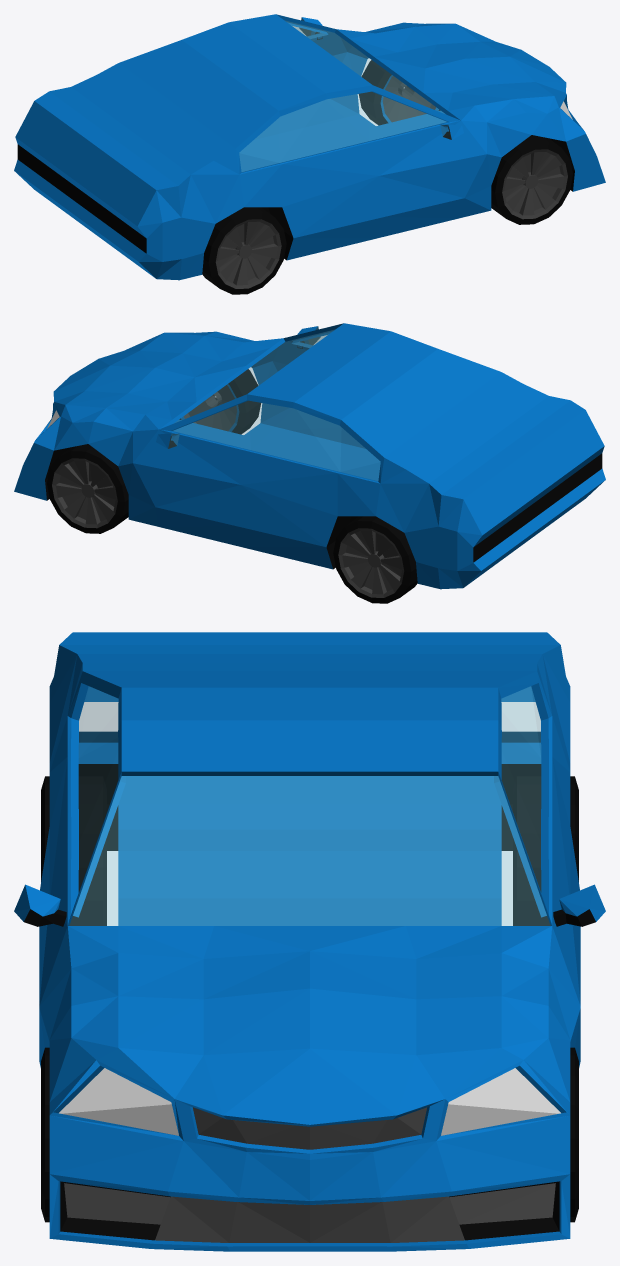
File: CianCar.obj
3 views of the same model, one above another, from view 1: azimuth 30°, elevation 25°; view 2: azimuth 150°, elevation 25°; view 3: azimuth 270°, elevation 25° (orthographic). The views are drawn at different scales.
Parts seen in each view (by area): view 1: CianCar_Material.061, CianCar_Material.065, CianCar_Material.063, CianCar_Material.064; view 2: CianCar_Material.061, CianCar_Material.065, CianCar_Material.063, CianCar_Material.064; view 3: CianCar_Material.061, CianCar_Material.065, CianCar_Material.066, CianCar_Material.063, CianCar_Material.062.
Part boxes in pixels (box(x1,y1,x2,y2)): CianCar_Material.061: box(14, 14, 605, 280); CianCar_Material.065: box(239, 18, 451, 171); CianCar_Material.063: box(17, 28, 574, 294); CianCar_Material.064: box(215, 76, 567, 288); CianCar_Material.061: box(14, 323, 605, 589); CianCar_Material.065: box(168, 327, 380, 480); CianCar_Material.063: box(45, 337, 602, 603); CianCar_Material.064: box(52, 385, 404, 597); CianCar_Material.061: box(14, 632, 605, 1251); CianCar_Material.065: box(69, 686, 550, 925); CianCar_Material.066: box(64, 1107, 555, 1242); CianCar_Material.063: box(24, 764, 595, 1240); CianCar_Material.062: box(59, 1068, 560, 1135).
Size of the model in its own units: 4.14 by 1.35 by 2.3.
